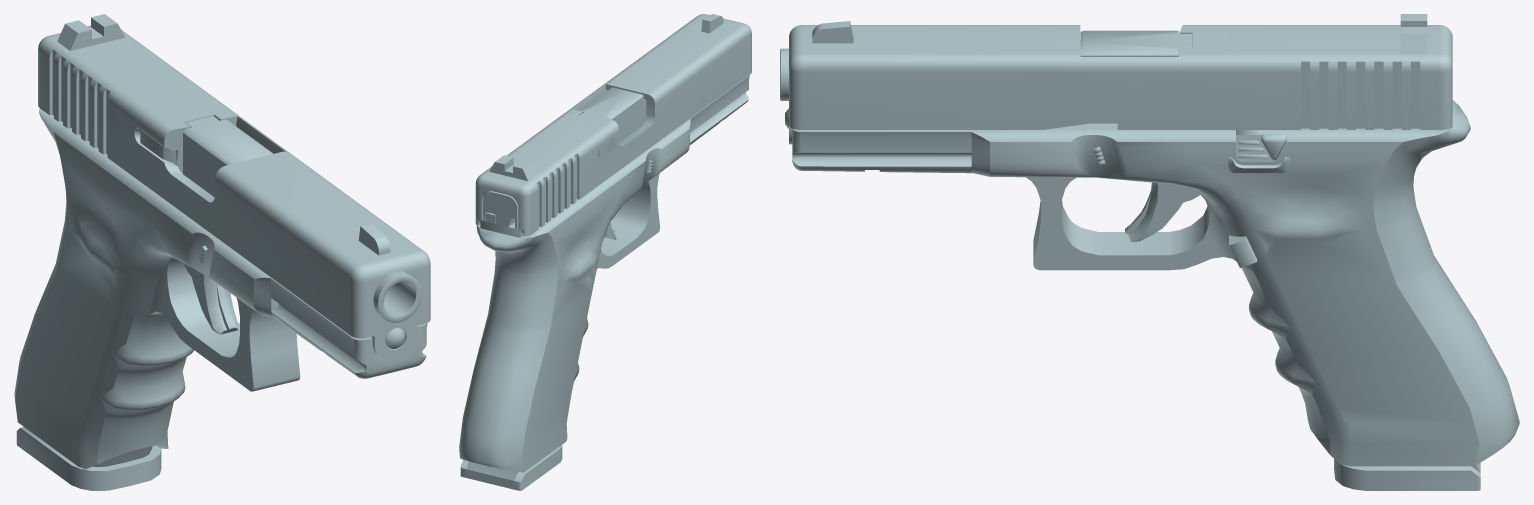
File: Glock22.fbx
3 renders of one model, left to right at view 1: azimuth 30°, elevation 25°; view 2: azimuth 150°, elevation 25°; view 3: azimuth 270°, elevation 25°, orthographic. The views are drawn at different scales.
Visible parts, largest first — view 1: WPN_Eder22, WPN_Eder22_slide, WPN_Eder22_barrel, WPN_Eder22_magazine, WPN_Eder22_trigger; view 2: WPN_Eder22, WPN_Eder22_slide, WPN_Eder22_barrel, WPN_Eder22_magazine; view 3: WPN_Eder22, WPN_Eder22_slide, WPN_Eder22_magazine, WPN_Eder22_barrel, WPN_Eder22_trigger.
Part boxes in pixels (x1,y1,x2,y2): WPN_Eder22: (14,108,427,468); WPN_Eder22_slide: (38,14,430,362); WPN_Eder22_barrel: (183,116,421,322); WPN_Eder22_magazine: (16,427,161,490); WPN_Eder22_trigger: (183,263,238,334); WPN_Eder22: (459,75,749,472); WPN_Eder22_slide: (475,14,751,236); WPN_Eder22_barrel: (580,87,646,145); WPN_Eder22_magazine: (460,445,562,490); WPN_Eder22: (792,100,1519,466); WPN_Eder22_slide: (785,14,1452,144); WPN_Eder22_magazine: (1334,459,1480,490); WPN_Eder22_barrel: (780,30,1192,100); WPN_Eder22_trigger: (1125,182,1200,241).
Size of the model in its own units: 3.39 by 13.59 by 20.45.
